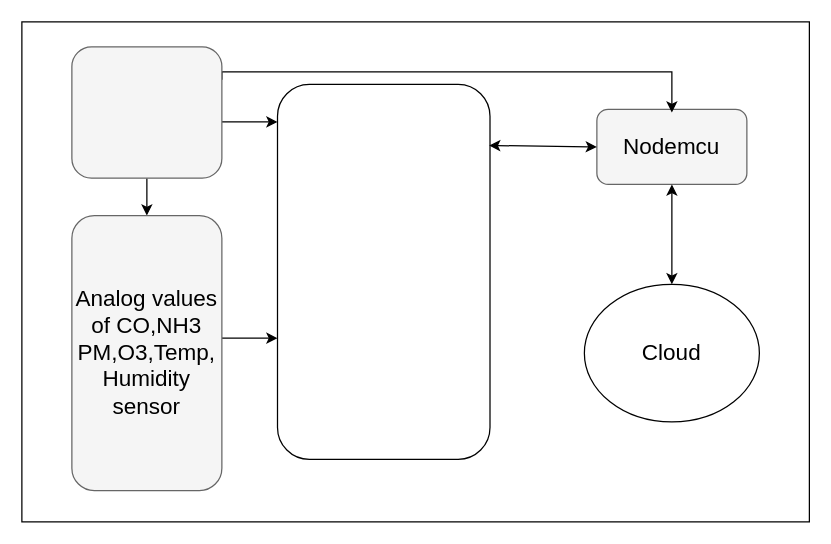
The diagram is 831 pixels wide and 544 high, and some of its shapes have lost their labels. Here are the shapes that lost their labels. From the top down, the box of each, then its label:
(71, 46, 222, 178): Power supply (5v)
(276, 83, 490, 459): ATmega328p Microcontroller
